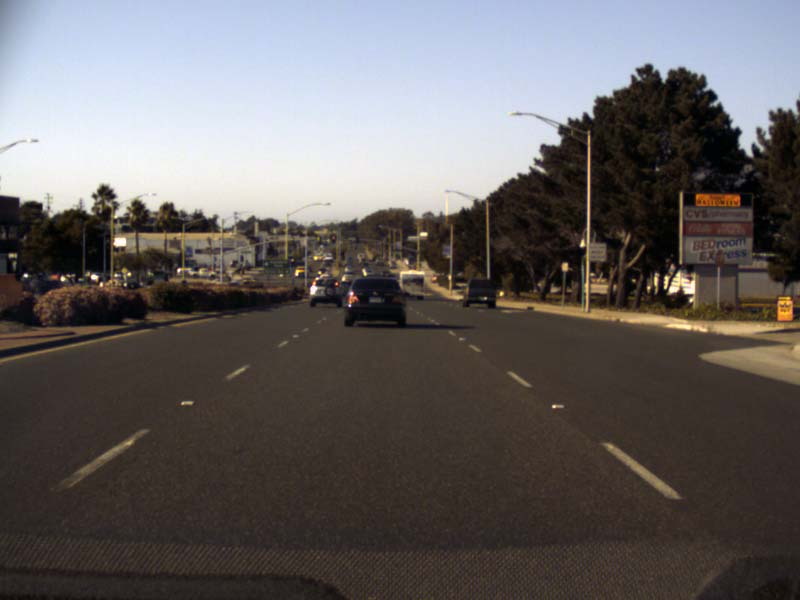Red: (331, 234, 335, 243)
